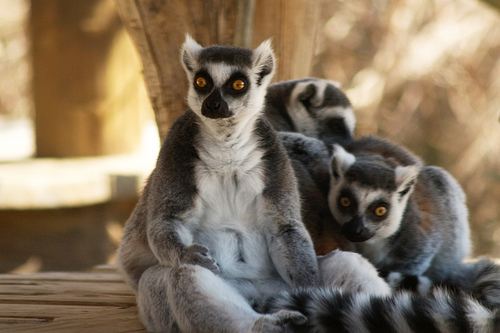cat: (120, 31, 499, 332)
